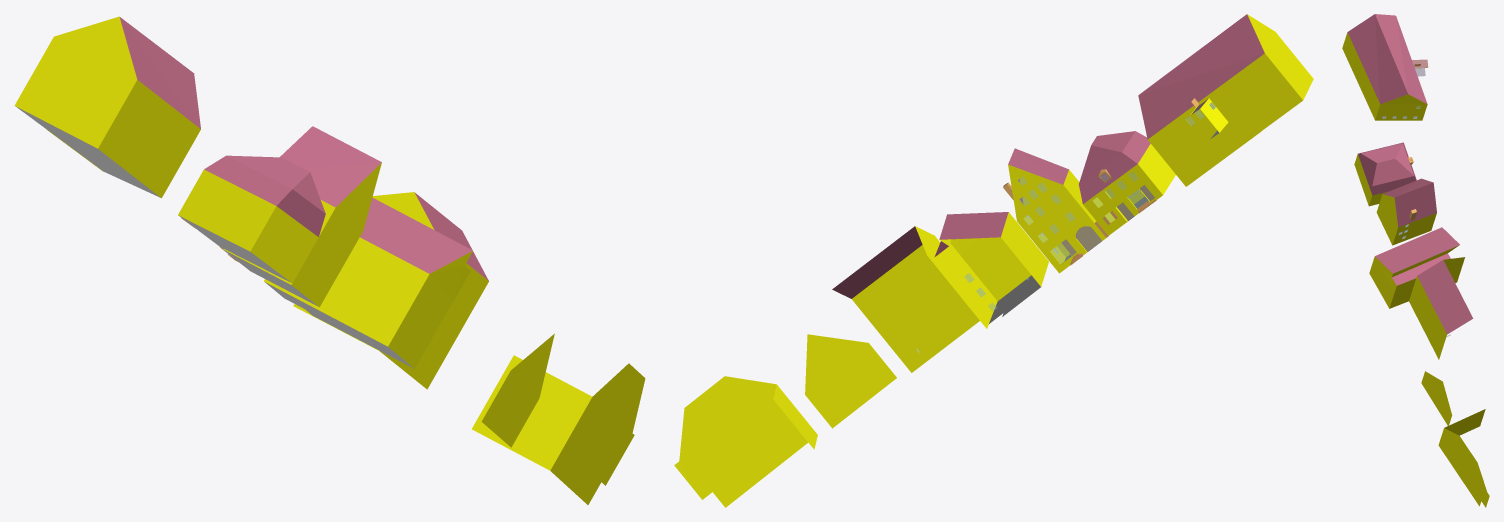
3 renders of one model, left to right at view 1: azimuth 30°, elevation 25°; view 2: azimuth 150°, elevation 25°; view 3: azimuth 270°, elevation 25°, orthographic. The views are drawn at different scales.
Parts seen in each view (by area): view 1: mesh; view 2: mesh; view 3: mesh.
Boxes of the visible parts, x1,y1,x2,y2 form: mesh: (14,16,645,504); mesh: (674,14,1313,507); mesh: (1342,14,1489,507).
Size of the model in its own units: 92.79 by 87 by 32.97.
